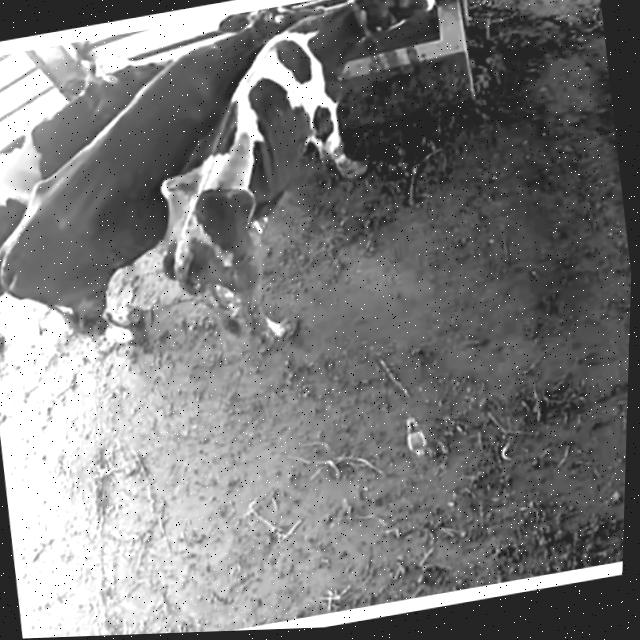drink: (288, 0, 450, 76), (207, 0, 319, 66)
